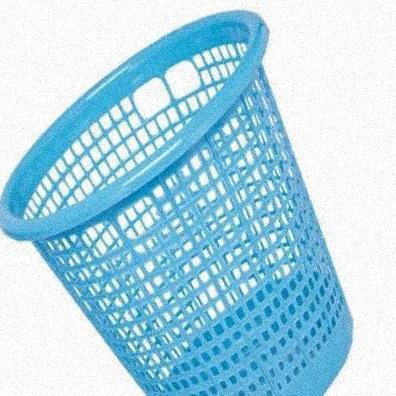Bote de Basura: (0, 12, 355, 395)
